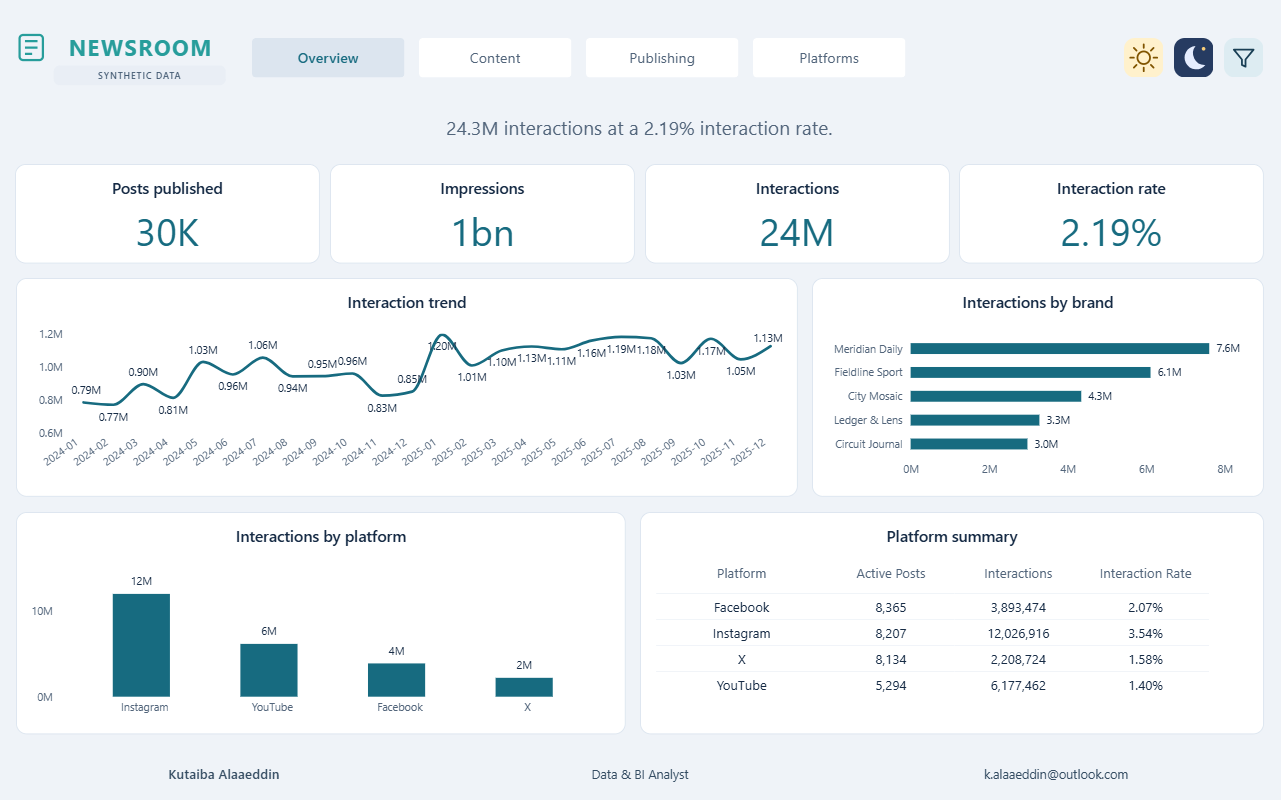

This screenshot's page, from the dashboard's own definition file:
{"tool":"powerbi","page":{"name":"Overview","canvas":[1440,880],"ordinal":0},"visuals":[{"type":"image","box":[0,0,1440,880],"z":0},{"type":"card","title":"Overview","fields":{"Values":["ReportMetrics.Audience Answer"]},"box":[23.9,102.5,1392.7,54.8],"z":3000},{"type":"actionButton","box":[288,28,170,44],"z":4000},{"type":"actionButton","box":[474,28,170,44],"z":5000},{"type":"actionButton","box":[660,28,170,44],"z":6000},{"type":"actionButton","box":[846,28,170,44],"z":7000},{"type":"image","box":[1372,28,44,44],"z":9000},{"type":"card","title":"Posts published","fields":{"Values":["ReportMetrics.Posts Published"]},"box":[23.9,168.5,339.8,110.9],"z":10000},{"type":"image","box":[24,14,240,70],"z":11000},{"type":"card","title":"Impressions","fields":{"Values":["ReportMetrics.Impressions"]},"box":[374.9,168.5,339.8,110.9],"z":12000},{"type":"card","title":"Interactions","fields":{"Values":["ReportMetrics.Interactions"]},"box":[725.8,168.5,339.8,110.9],"z":13000},{"type":"card","title":"Interaction rate","fields":{"Values":["ReportMetrics.Interaction Rate"]},"box":[1076.8,168.5,339.8,110.9],"z":14000},{"type":"lineChart","title":"Interaction trend","fields":{"Category":["DimDate.YearMonth"],"Y":["ReportMetrics.Interactions"]},"box":[24,296,872,244],"z":15000},{"type":"clusteredBarChart","title":"Interactions by brand","fields":{"Category":["DimPost.BrandName"],"Y":["ReportMetrics.Interactions"]},"box":[912,296,504,244],"z":16000},{"type":"clusteredColumnChart","title":"Interactions by platform","fields":{"Category":["DimPost.Platform"],"Y":["ReportMetrics.Interactions"]},"box":[24,556,680,248],"z":17000},{"type":"tableEx","title":"Platform summary","fields":{"Values":["DimPost.Platform","ReportMetrics.Active Posts","ReportMetrics.Interactions","ReportMetrics.Interaction Rate"]},"box":[720,556,696,248],"z":18000},{"type":"image","box":[1316,28,44,44],"z":19000},{"type":"image","box":[24,828,1392,40],"z":20000},{"type":"image","box":[1260,28,44,44],"z":22000}]}

Visuals, with their boxes in screenshot pixels (x1, y1, x2, y2), scaled from the page's 1440x880 canvas onto the 1281x800 screenshot:
image: x1=0 y1=0 x2=1280 y2=799
"Overview" card: x1=21 y1=93 x2=1260 y2=143
actionButton: x1=256 y1=25 x2=407 y2=65
actionButton: x1=422 y1=25 x2=573 y2=65
actionButton: x1=587 y1=25 x2=738 y2=65
actionButton: x1=753 y1=25 x2=904 y2=65
image: x1=1221 y1=25 x2=1260 y2=65
"Posts published" card: x1=21 y1=153 x2=324 y2=254
image: x1=21 y1=13 x2=235 y2=76
"Impressions" card: x1=334 y1=153 x2=636 y2=254
"Interactions" card: x1=646 y1=153 x2=948 y2=254
"Interaction rate" card: x1=958 y1=153 x2=1260 y2=254
"Interaction trend" lineChart: x1=21 y1=269 x2=797 y2=491
"Interactions by brand" clusteredBarChart: x1=811 y1=269 x2=1260 y2=491
"Interactions by platform" clusteredColumnChart: x1=21 y1=505 x2=626 y2=731
"Platform summary" tableEx: x1=640 y1=505 x2=1260 y2=731
image: x1=1171 y1=25 x2=1210 y2=65
image: x1=21 y1=753 x2=1260 y2=789
image: x1=1121 y1=25 x2=1160 y2=65
